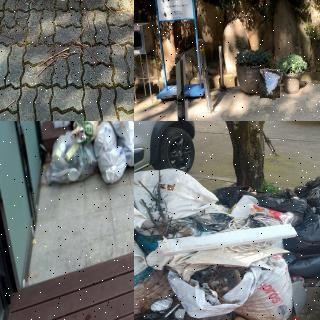Garbage: (165, 245, 295, 320), (45, 134, 98, 182), (288, 208, 320, 251), (97, 147, 127, 182), (94, 122, 117, 154), (259, 68, 282, 99), (301, 176, 320, 207), (71, 121, 99, 141), (105, 121, 134, 135)
